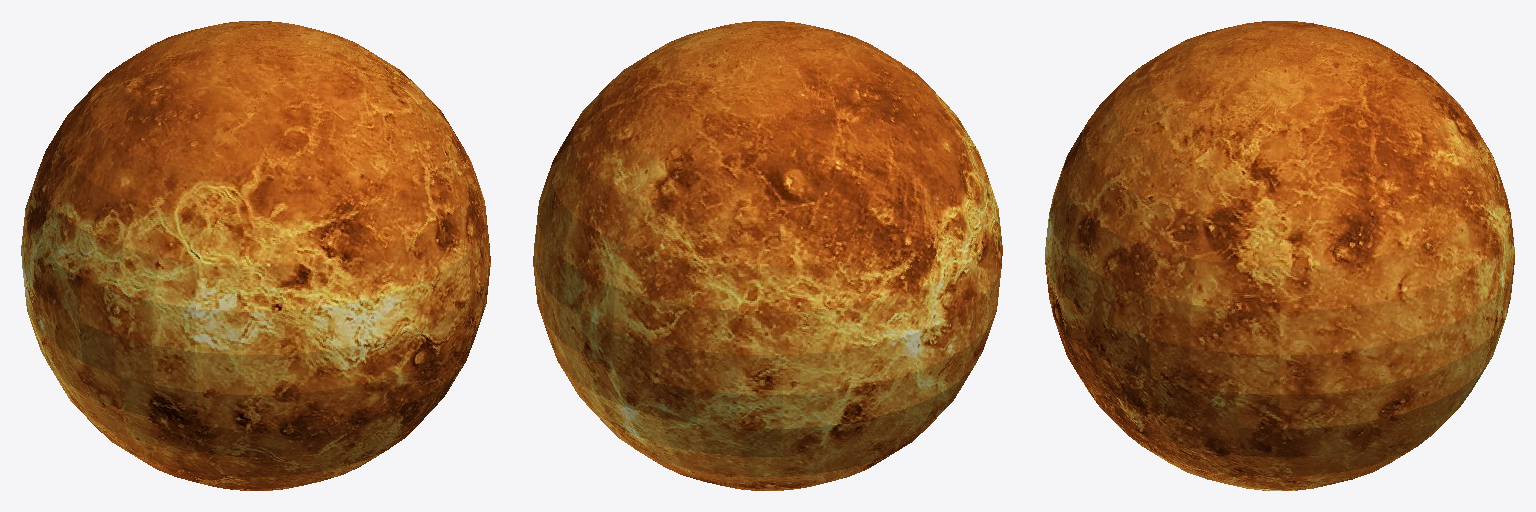
3 views of the same model, side by side, from view 1: azimuth 30°, elevation 25°; view 2: azimuth 150°, elevation 25°; view 3: azimuth 270°, elevation 25° (orthographic).
Parts seen in each view (by area): view 1: Sphere; view 2: Sphere; view 3: Sphere.
Part boxes in pixels (bbox=[...]): Sphere: bbox=[21, 21, 490, 490]; Sphere: bbox=[533, 21, 1002, 490]; Sphere: bbox=[1045, 21, 1514, 490].
Bounding box in the file's own units: 2 × 2 × 2.
Materials: 1 (1 with a texture image).